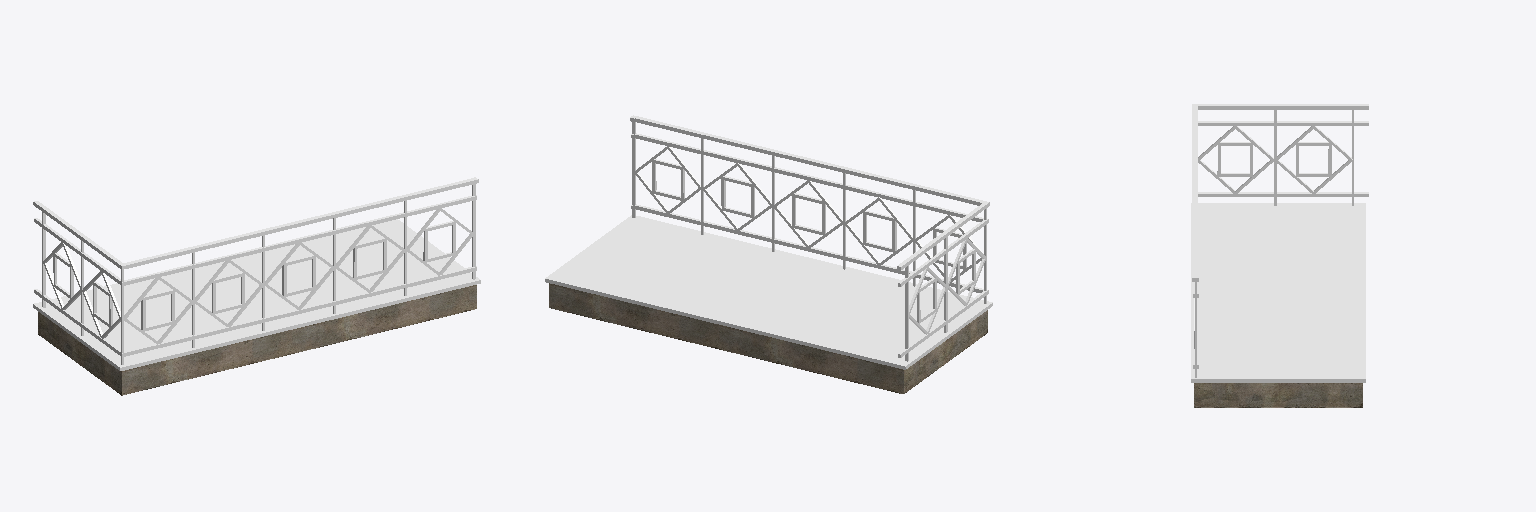
3 views of the same model, side by side, from view 1: azimuth 30°, elevation 25°; view 2: azimuth 150°, elevation 25°; view 3: azimuth 270°, elevation 25° (orthographic).
Parts seen in each view (by area): view 1: Box02, C_Ext01, Box01; view 2: Box02, C_Ext01, Box01; view 3: Box02, C_Ext01, Box01.
Boxes of the visible parts, box(x1,y1,x2,y2) form: Box02: box(33, 219, 480, 370); C_Ext01: box(33, 177, 478, 364); Box01: box(38, 285, 476, 395); Box02: box(545, 215, 992, 369); C_Ext01: box(630, 115, 989, 361); Box01: box(549, 283, 987, 393); Box02: box(1191, 203, 1365, 382); C_Ext01: box(1192, 104, 1368, 377); Box01: box(1194, 383, 1362, 407).
Bounding box in the file's own units: 3.05 × 1.05 × 1.31.
3 materials, 1 textured.